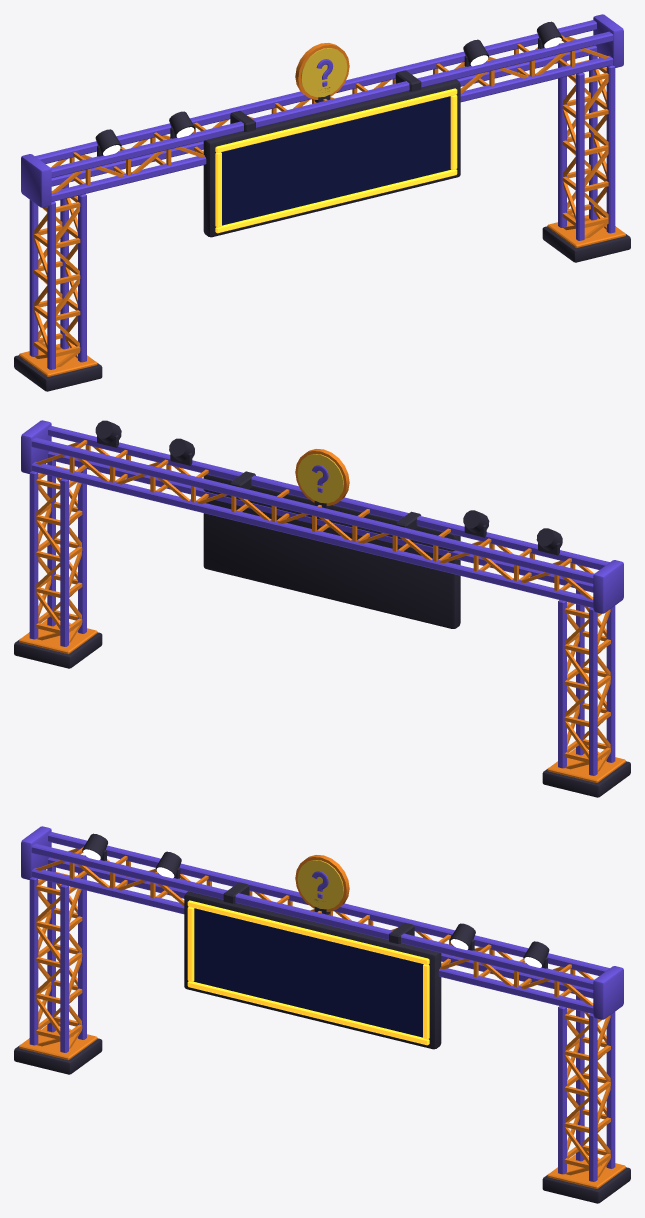
Rendered from gantry_v2.glb.
3 renders of one model, top to bottom at view 1: azimuth 30°, elevation 25°; view 2: azimuth 150°, elevation 25°; view 3: azimuth 330°, elevation 25°, orthographic.
Visible parts, largest first — view 1: gantry_v2, SCREEN; view 2: gantry_v2; view 3: gantry_v2, SCREEN.
Boxes of the visible parts, left/top/right/bottom form: gantry_v2: left=14, top=14, right=630, bottom=391; SCREEN: left=221, top=96, right=450, bottom=225; gantry_v2: left=14, top=420, right=630, bottom=797; gantry_v2: left=14, top=826, right=630, bottom=1203; SCREEN: left=194, top=908, right=423, bottom=1037.
Size of the model in its own units: 25.5 by 11.02 by 2.5.
